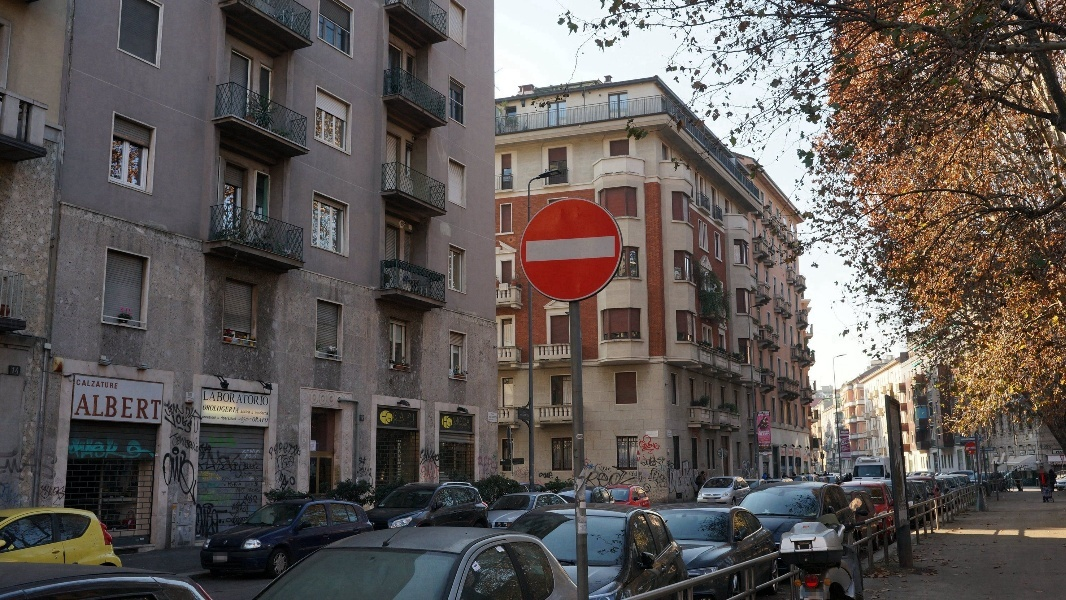text: (161, 431, 176, 538), (177, 431, 192, 538), (193, 431, 208, 538), (209, 431, 224, 538), (225, 431, 240, 538), (241, 431, 256, 538), (641, 433, 656, 496), (629, 433, 640, 496), (657, 433, 667, 496), (257, 431, 262, 538), (757, 411, 768, 455), (276, 453, 288, 493), (97, 394, 112, 420), (113, 394, 128, 420), (129, 394, 144, 420), (145, 394, 160, 420), (82, 394, 96, 420), (81, 437, 96, 460), (97, 437, 112, 460), (113, 437, 128, 460), (129, 437, 144, 460), (177, 415, 192, 437), (289, 453, 297, 493), (193, 407, 204, 435), (163, 415, 176, 437), (273, 441, 288, 460), (593, 471, 608, 490), (481, 456, 496, 475), (359, 456, 368, 486), (69, 437, 80, 460), (145, 437, 156, 460), (609, 471, 622, 490), (209, 391, 224, 407), (225, 391, 240, 407), (241, 391, 256, 407), (420, 448, 432, 468), (593, 458, 608, 474), (785, 448, 800, 463), (163, 400, 176, 417), (257, 391, 269, 407), (369, 456, 375, 486), (769, 411, 773, 455), (186, 407, 192, 435), (421, 464, 432, 479), (81, 379, 96, 389), (97, 379, 112, 389), (433, 448, 440, 468), (177, 400, 185, 417), (209, 404, 224, 413), (584, 458, 592, 474), (225, 404, 239, 413), (401, 412, 415, 421), (801, 448, 809, 463), (289, 441, 295, 460), (586, 471, 592, 490), (433, 464, 440, 479), (385, 410, 392, 425), (311, 441, 320, 452), (453, 417, 464, 426), (842, 444, 848, 460), (241, 416, 252, 424), (488, 412, 496, 423), (840, 430, 848, 441), (401, 420, 415, 426), (545, 471, 554, 480), (203, 391, 208, 407), (268, 441, 272, 460), (257, 417, 269, 423), (721, 449, 728, 459), (453, 425, 464, 431), (443, 416, 448, 429), (849, 444, 853, 460), (393, 412, 400, 421), (257, 411, 269, 416), (780, 448, 784, 463), (477, 456, 480, 475), (465, 417, 471, 426), (161, 394, 163, 420), (113, 379, 118, 389), (225, 417, 237, 421), (520, 411, 528, 417), (609, 458, 612, 474), (203, 404, 208, 413), (241, 411, 256, 414), (539, 471, 544, 480), (393, 420, 400, 426), (209, 415, 217, 420), (449, 416, 452, 429), (361, 415, 368, 420), (841, 440, 848, 445), (77, 379, 80, 389), (382, 410, 384, 425), (465, 425, 470, 431), (717, 449, 720, 459), (668, 431, 672, 438), (203, 415, 208, 420), (497, 456, 498, 475), (238, 416, 240, 424), (221, 417, 224, 421), (254, 417, 256, 423), (497, 412, 498, 423), (849, 440, 851, 445), (529, 411, 530, 417), (255, 411, 256, 416)
